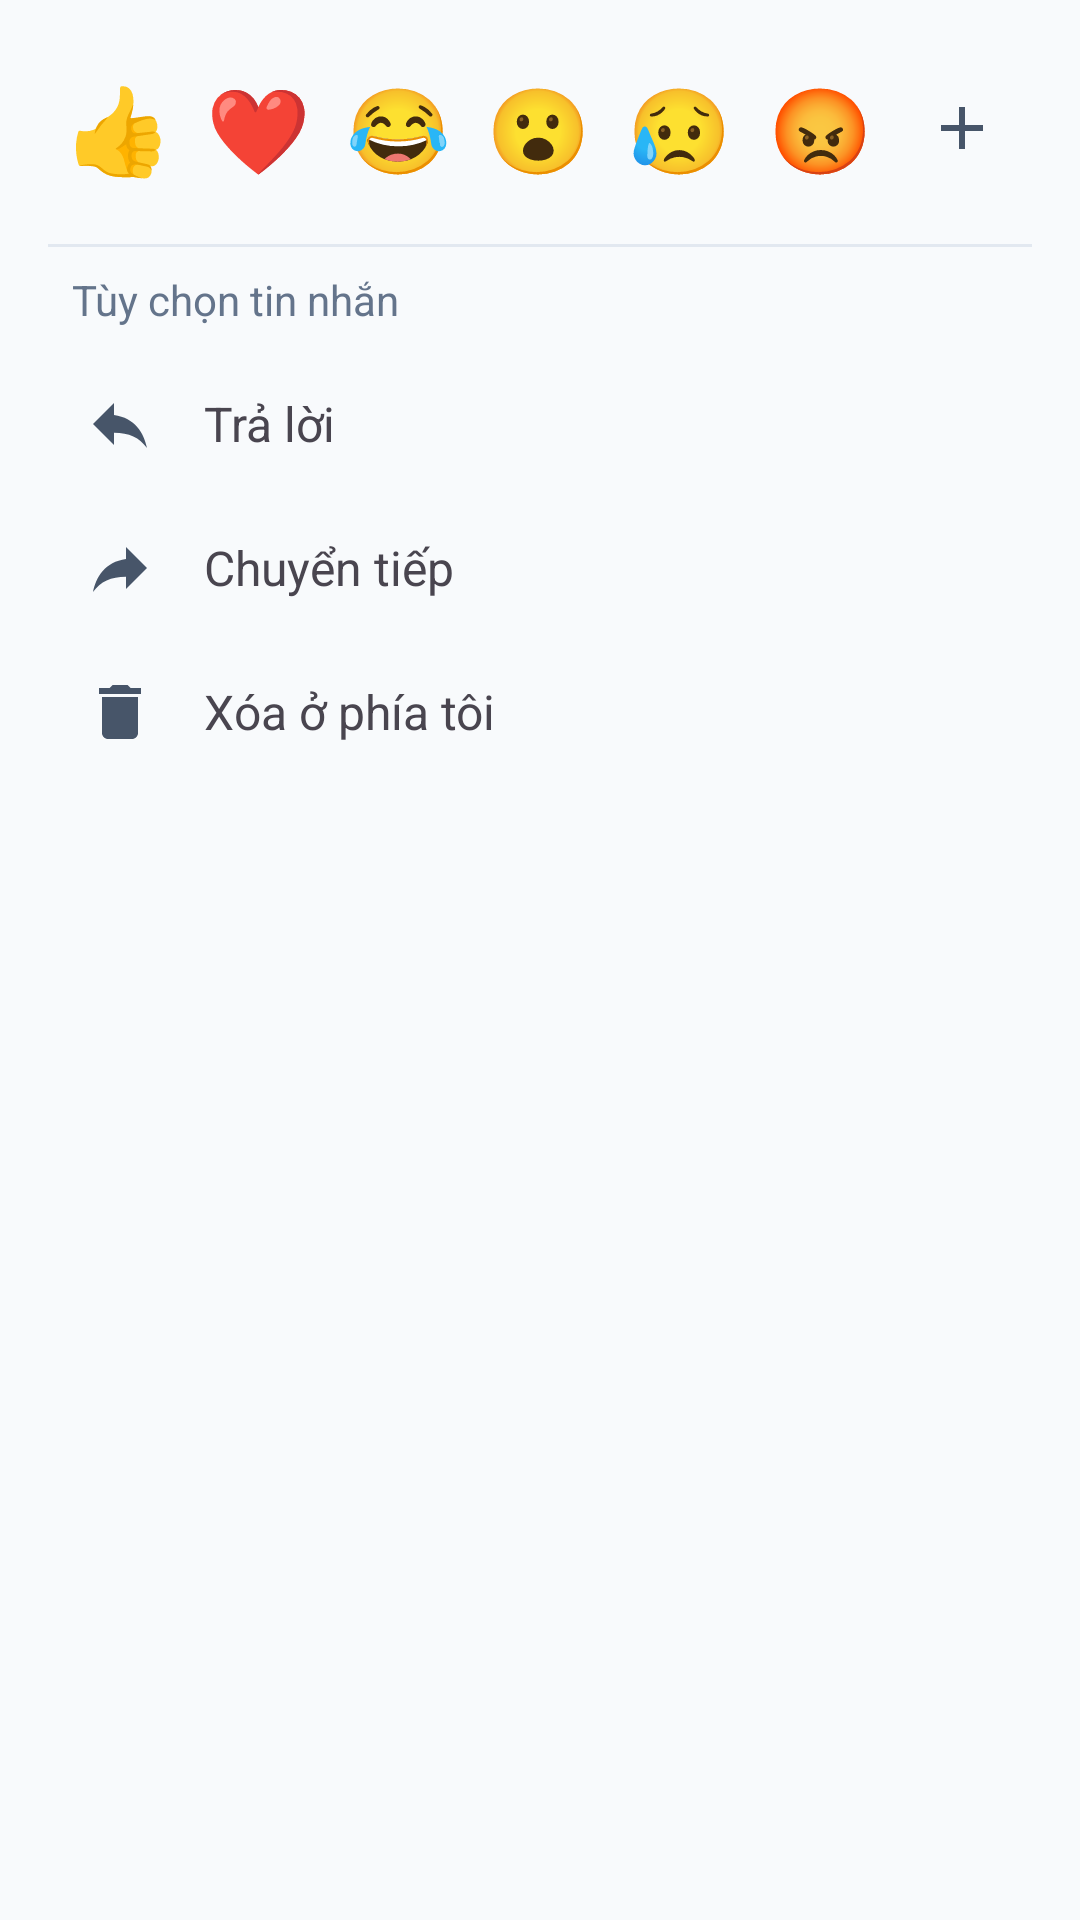

Locate icon controls on the screen. Image size 1080px x 1920px, boxes as (x1, y1, x2, y2).
add: (941, 107, 983, 149)
delete: (99, 685, 141, 739)
forward: (93, 547, 147, 592)
reply: (93, 403, 147, 448)
